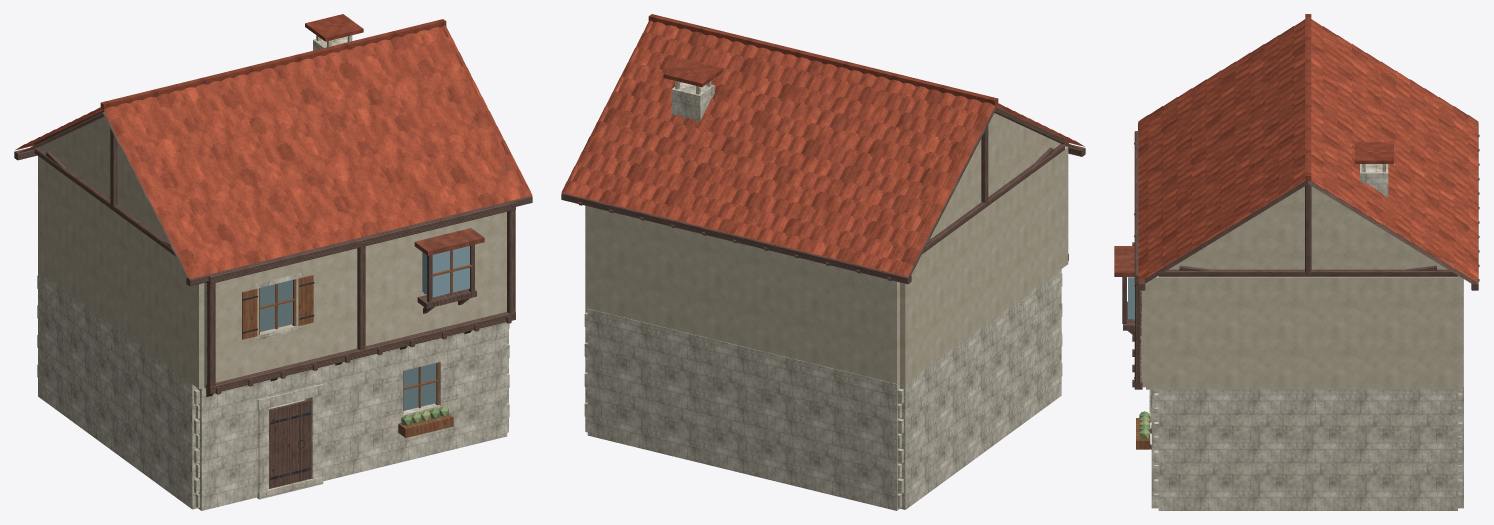
The model's file is B26_vivienda.glb.
3 renders of one model, left to right at view 1: azimuth 30°, elevation 25°; view 2: azimuth 150°, elevation 25°; view 3: azimuth 270°, elevation 25°, orthographic. The views are drawn at different scales.
Parts seen in each view (by area): view 1: AUR034_B26_clay_tiles, AUR034_B26_lower_masonry, AUR034_B26_upper_plaster, AUR034_B26_gable-1, AUR034_B26_entry_leaf0, AUR034_B26_head, AUR034_B26_sill, AUR034_B26_ridge, AUR034_B26_oriel2_front_glass, AUR034_B26_window1_glazing, AUR034_B26_window0_glazing, AUR034_B26_gable_tie-1 (+15 smaller); view 2: AUR034_B26_clay_tiles, AUR034_B26_lower_masonry, AUR034_B26_upper_plaster, AUR034_B26_gable-1, AUR034_B26_fascia1, AUR034_B26_ridge, AUR034_B26_chimney, AUR034_B26_gable_tie-1, AUR034_B26_dressed_corner_stones, AUR034_B26_cowl, AUR034_B26_roof_sheathing, AUR034_B26_gable_kingpost-1; view 3: AUR034_B26_clay_tiles, AUR034_B26_lower_masonry, AUR034_B26_upper_plaster, AUR034_B26_gable1, AUR034_B26_gable_tie1, AUR034_B26_roof_sheathing, AUR034_B26_ridge, AUR034_B26_dressed_corner_stones, AUR034_B26_cowl, AUR034_B26_head, AUR034_B26_chimney, AUR034_B26_post2 (+2 smaller).
Boxes of the visible parts, x1,y1,x2,y2 form: AUR034_B26_clay_tiles: (15,25,532,278); AUR034_B26_lower_masonry: (38,271,508,510); AUR034_B26_upper_plaster: (38,156,506,389); AUR034_B26_gable-1: (39,117,167,241); AUR034_B26_entry_leaf0: (269,399,311,488); AUR034_B26_head: (208,201,515,283); AUR034_B26_sill: (206,312,515,394); AUR034_B26_ridge: (100,19,446,109); AUR034_B26_oriel2_front_glass: (432,246,469,297); AUR034_B26_window1_glazing: (260,280,292,331); AUR034_B26_window0_glazing: (403,363,436,410); AUR034_B26_gable_tie-1: (34,147,175,256); AUR034_B26_clay_tiles: (561,20,1084,276); AUR034_B26_lower_masonry: (585,269,1061,510); AUR034_B26_upper_plaster: (585,146,1068,383); AUR034_B26_gable-1: (930,113,1060,238); AUR034_B26_fascia1: (561,192,911,284); AUR034_B26_ridge: (648,14,998,105); AUR034_B26_chimney: (671,82,714,121); AUR034_B26_gable_tie-1: (922,143,1064,253); AUR034_B26_dressed_corner_stones: (584,273,1062,508); AUR034_B26_cowl: (663,59,722,87); AUR034_B26_roof_sheathing: (909,108,1081,275); AUR034_B26_gable_kingpost-1: (981,125,988,205); AUR034_B26_clay_tiles: (1138,19,1478,282); AUR034_B26_lower_masonry: (1151,279,1463,510); AUR034_B26_upper_plaster: (1140,275,1463,389); AUR034_B26_gable1: (1159,186,1457,277); AUR034_B26_gable_tie1: (1158,269,1457,276); AUR034_B26_roof_sheathing: (1144,181,1472,283); AUR034_B26_ridge: (1305,14,1311,180); AUR034_B26_dressed_corner_stones: (1154,393,1462,506); AUR034_B26_cowl: (1354,142,1393,163); AUR034_B26_head: (1134,131,1138,282); AUR034_B26_chimney: (1360,164,1388,197); AUR034_B26_post2: (1135,279,1141,385).
Size of the model in its own units: 8.96 by 8.85 by 8.55.
Materials: 14 (9 with a texture image).
